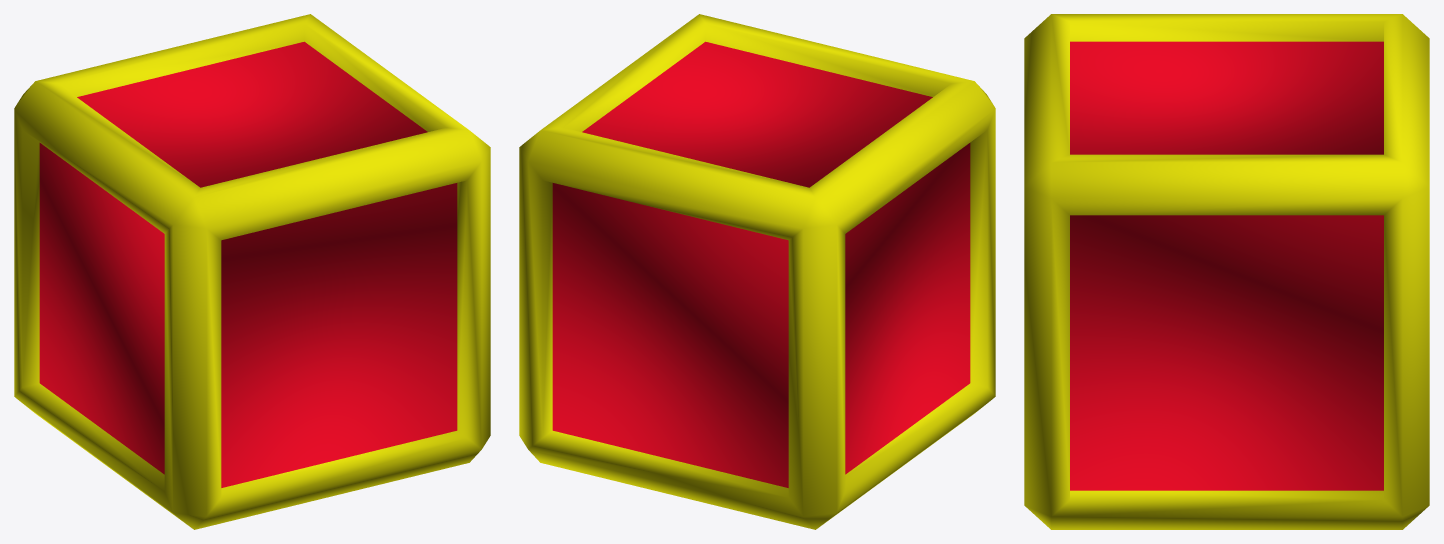
Rendered from sm_diceBase.fbx.
The picture shows the model from 3 angles, left to right: view 1: azimuth 30°, elevation 25°; view 2: azimuth 150°, elevation 25°; view 3: azimuth 270°, elevation 25°; orthographic projection. The views are drawn at different scales.
Parts seen in each view (by area): view 1: Cube; view 2: Cube; view 3: Cube.
Boxes of the visible parts, left/top/right/bottom form: Cube: left=14, top=14, right=490, bottom=529; Cube: left=519, top=14, right=995, bottom=529; Cube: left=1024, top=14, right=1429, bottom=529.
Bounding box in the file's own units: 100 × 100 × 100.
